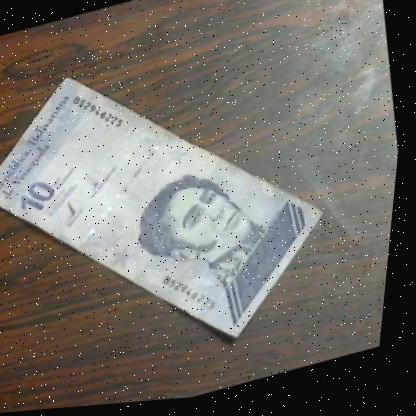ten-front-vef: (0, 11, 364, 406)
